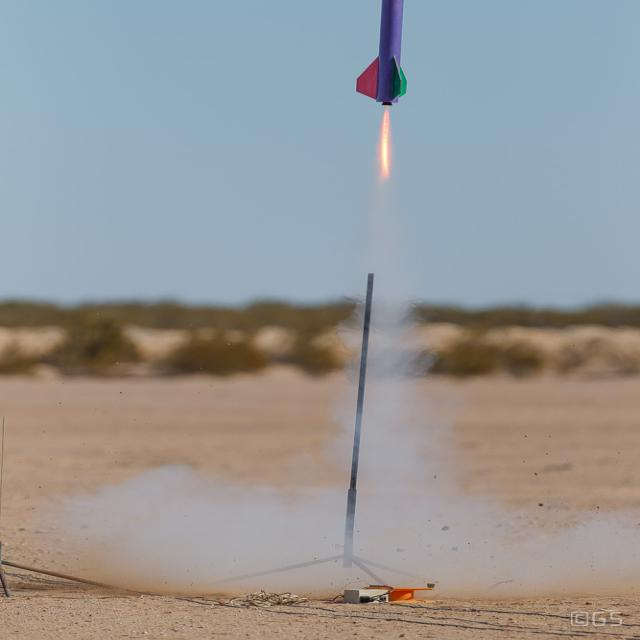Rocket: (354, 0, 410, 105)
